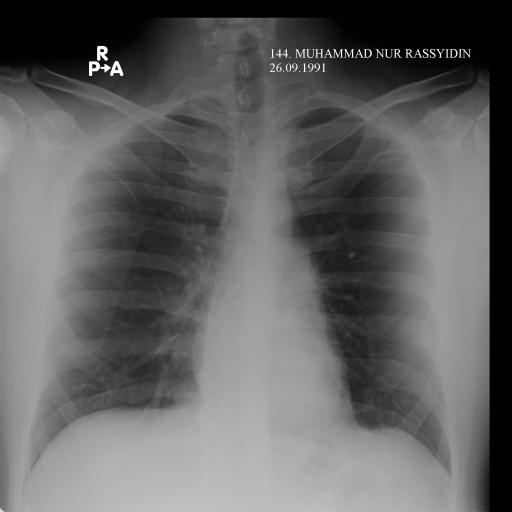normal: (12, 65, 464, 500)
